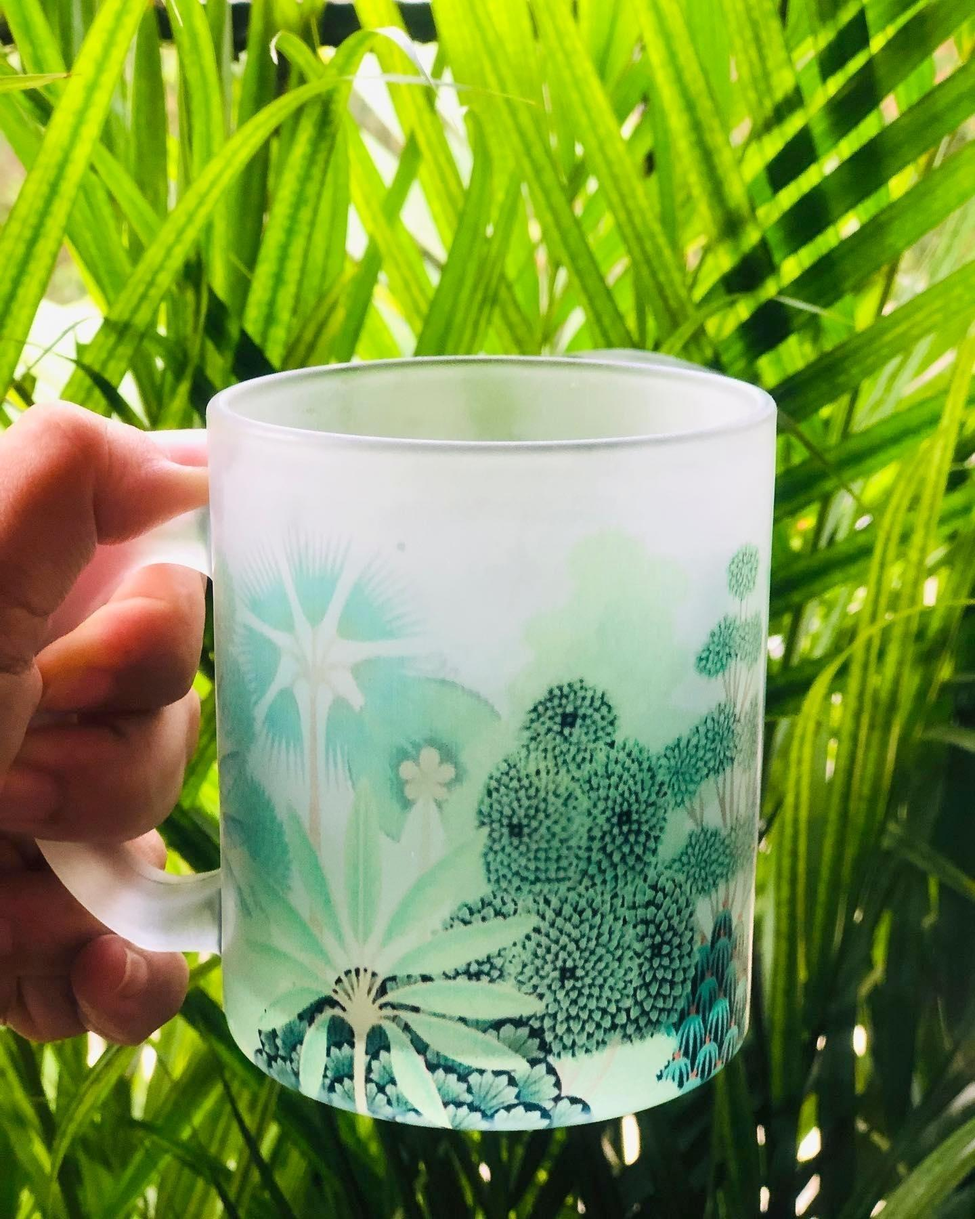glass-mug: (0, 346, 803, 1157)
